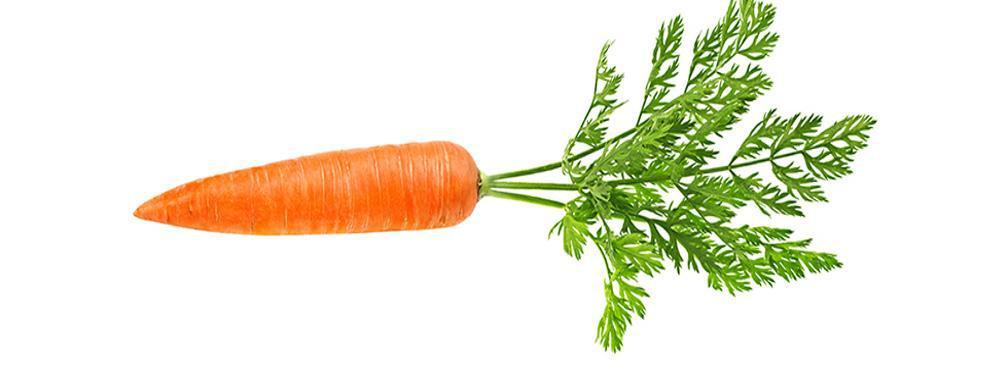carrot: (101, 135, 840, 277)
